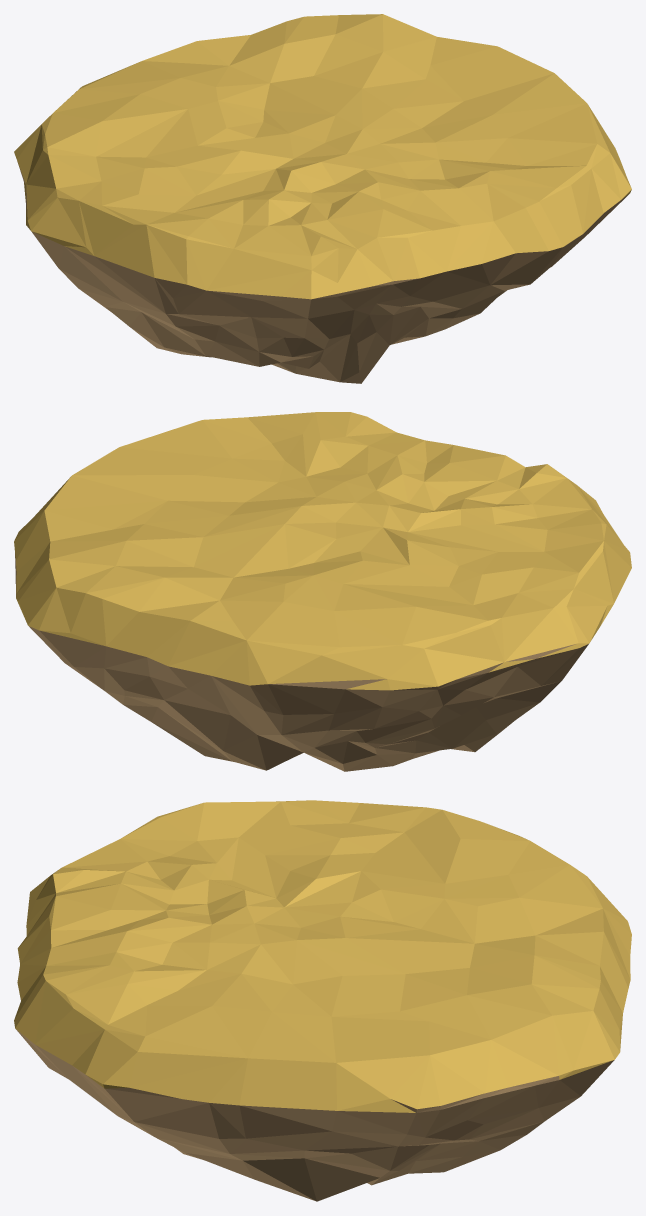
The model's file is smallsandisland.fbx.
The picture shows the model from 3 angles, top to bottom: view 1: azimuth 30°, elevation 25°; view 2: azimuth 150°, elevation 25°; view 3: azimuth 270°, elevation 25°; orthographic projection. The views are drawn at different scales.
Visible parts, largest first — view 1: polySurface10; view 2: polySurface10; view 3: polySurface10.
Boxes of the visible parts, x1=… form: polySurface10: x1=14, y1=14, x2=631, y2=383; polySurface10: x1=14, y1=412, x2=631, y2=771; polySurface10: x1=14, y1=800, x2=631, y2=1201.
Size of the model in its own units: 436 by 149 by 392.
